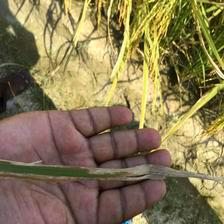2 BacterialBlight: (5, 155, 213, 185)
